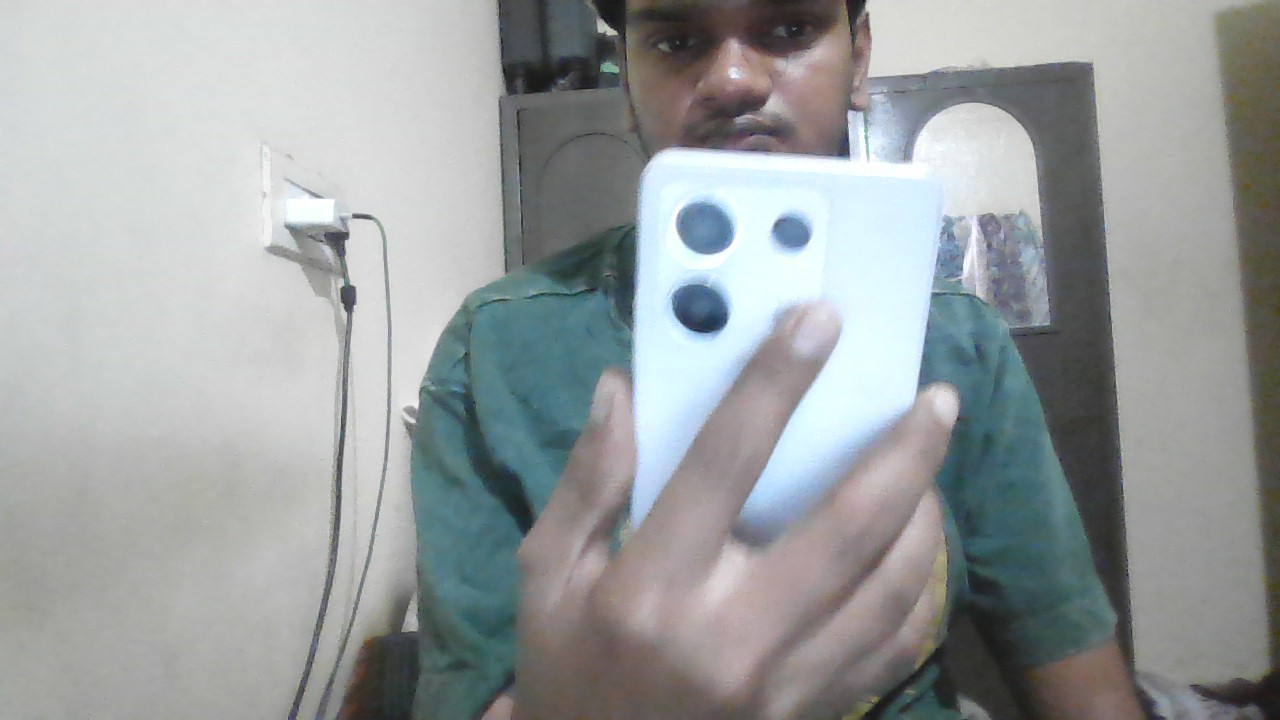phone: (644, 152, 939, 392)
